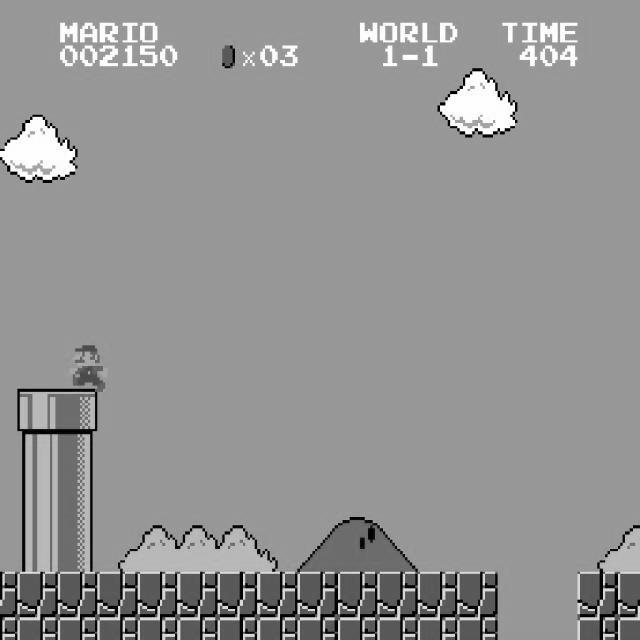11- little_mario: (64, 343, 108, 391)
14- pipe: (17, 434, 58, 480), (17, 480, 58, 526), (17, 526, 58, 572), (57, 434, 98, 480), (57, 480, 98, 526), (57, 526, 98, 572)
15- pipe_head: (17, 388, 58, 434), (57, 388, 98, 434)
17- undestructible_block: (17, 572, 58, 618), (57, 572, 98, 618), (97, 572, 138, 618), (137, 572, 178, 618), (177, 572, 218, 618), (217, 572, 258, 618), (257, 572, 298, 618), (297, 572, 338, 618), (337, 572, 378, 618), (377, 572, 418, 618), (417, 572, 458, 618), (457, 572, 498, 618), (577, 572, 618, 618), (618, 572, 640, 618), (17, 617, 58, 640), (57, 617, 98, 640), (97, 617, 138, 640), (137, 617, 178, 640), (177, 617, 218, 640), (217, 617, 258, 640), (257, 617, 298, 640), (297, 617, 338, 640), (337, 617, 378, 640), (377, 617, 418, 640), (417, 617, 458, 640), (457, 617, 498, 640), (577, 617, 618, 640), (0, 571, 17, 617), (618, 617, 640, 640), (0, 617, 17, 639)
